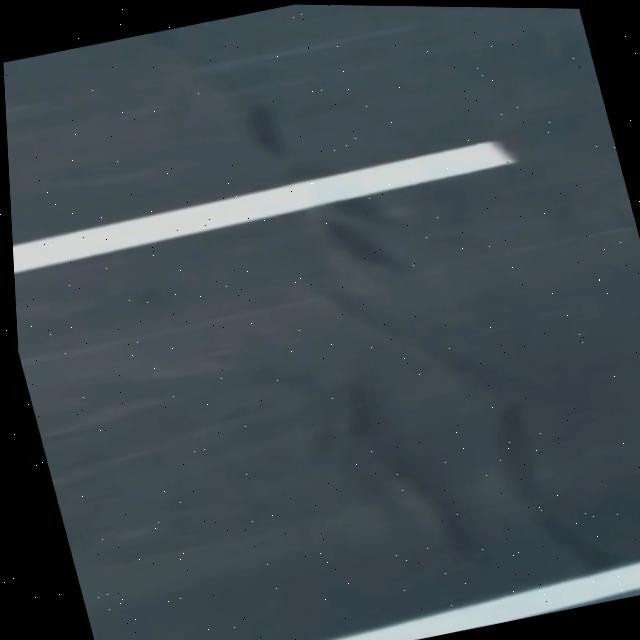center: (13, 140, 516, 272)
left: (329, 561, 640, 640)
